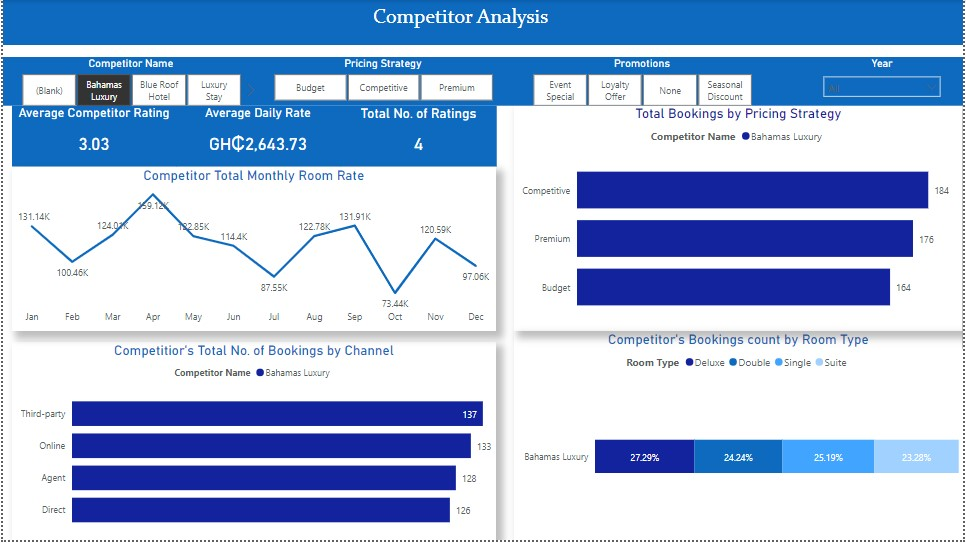

The page's visual inventory and layout, read from the dashboard file:
{"tool":"powerbi","page":{"name":"Competitor Analysis","canvas":[1280,720],"ordinal":2},"visuals":[{"type":"card","title":"Total No. of Ratings","fields":{"Values":["Measures Table.Total competitors"]},"box":[449.6,140.2,209,82.5],"z":0},{"type":"card","title":"Average Daily Rate","fields":{"Values":["Measures Table.Competitor Daily Rate"]},"box":[231,140.2,218.6,82.5],"z":1000},{"type":"card","title":"Average Competitor Rating","fields":{"Values":["Measures Table.Average rating"]},"box":[12.4,140.2,218.6,82.5],"z":2000},{"type":"lineChart","title":"Competitor Total Monthly Room Rate","fields":{"Y":["Measures Table.Total competitor rate"],"Category":["DateTable.Month_Name"]},"box":[12.4,222.7,644.8,218.6],"z":3000},{"type":"barChart","title":"Competitior''s Total No. of Bookings by Channel","fields":{"Category":["Channel Table.Channel_Type"],"Y":["Measures Table.Bookings count"],"Series":["Competitor Table.Competitor_Name"]},"box":[12.4,456.5,644.8,264],"z":4000},{"type":"hundredPercentStackedBarChart","title":"Competitor''s Bookings count by Room Type","fields":{"Y":["Measures Table.Bookings count"],"Category":["Competitor Table.Competitor_Name"],"Series":["Booking Table.Room_Type"]},"box":[681.9,441.3,598.1,279.1],"z":5000},{"type":"barChart","title":"Total Bookings by Pricing Strategy","fields":{"Y":["Measures Table.Bookings count"],"Category":["Competitor Table.Competitor_Pricing_Strategy"],"Series":["Competitor Table.Competitor_Name"]},"box":[681.9,140.2,598.1,301.1],"z":6000},{"type":"shape","box":[0,0,1280,60.5],"z":7000},{"type":"shape","box":[0,75.6,1280,64.6],"z":8000},{"type":"slicer","title":"Competitor Name","fields":{"Values":["Competitor Table.Competitor_Name"]},"box":[0,75.6,341,64.6],"z":8001},{"type":"slicer","title":"Pricing Strategy","fields":{"Values":["Competitor Table.Competitor_Pricing_Strategy"]},"box":[335.5,75.6,341,64.6],"z":8002},{"type":"slicer","title":"Promotions","fields":{"Values":["Competitor Table.Competitor_Promotions"]},"box":[681.9,75.6,341,64.6],"z":8003},{"type":"slicer","title":"Year","fields":{"Values":["DateTable.Year"]},"box":[1083.4,75.6,176,64.6],"z":8004},{"type":"textbox","box":[429,0,361.6,49.5],"z":8005}]}

Visuals, with their boxes in screenshot pixels (x1, y1, x2, y2), scaled from the page's 1280x720 canvas onto the 966x543 screenshot:
"Total No. of Ratings" card: pyautogui.locateOnScreen(339, 106, 497, 168)
"Average Daily Rate" card: pyautogui.locateOnScreen(174, 106, 339, 168)
"Average Competitor Rating" card: pyautogui.locateOnScreen(9, 106, 174, 168)
"Competitor Total Monthly Room Rate" lineChart: pyautogui.locateOnScreen(9, 168, 496, 333)
"Competitior''s Total No. of Bookings by Channel" barChart: pyautogui.locateOnScreen(9, 344, 496, 542)
"Competitor''s Bookings count by Room Type" hundredPercentStackedBarChart: pyautogui.locateOnScreen(515, 333, 965, 542)
"Total Bookings by Pricing Strategy" barChart: pyautogui.locateOnScreen(515, 106, 965, 333)
shape: pyautogui.locateOnScreen(0, 0, 965, 46)
shape: pyautogui.locateOnScreen(0, 57, 965, 106)
"Competitor Name" slicer: pyautogui.locateOnScreen(0, 57, 257, 106)
"Pricing Strategy" slicer: pyautogui.locateOnScreen(253, 57, 511, 106)
"Promotions" slicer: pyautogui.locateOnScreen(515, 57, 772, 106)
"Year" slicer: pyautogui.locateOnScreen(818, 57, 950, 106)
textbox: pyautogui.locateOnScreen(324, 0, 597, 37)
